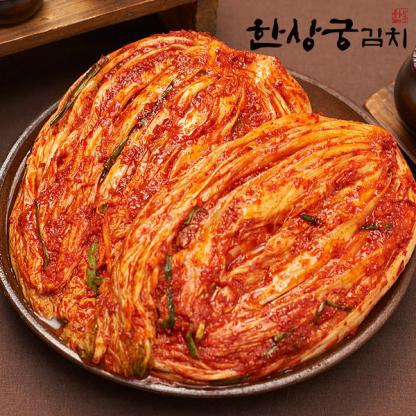kimchi: (69, 104, 416, 384), (14, 26, 314, 314)
